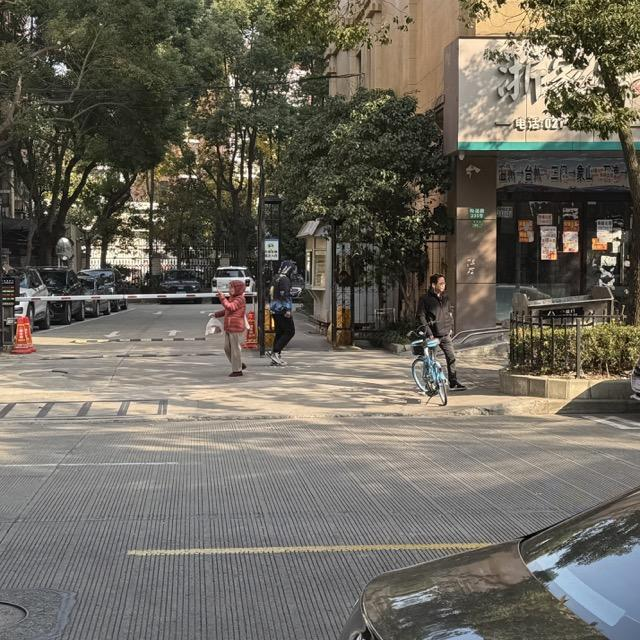curb: (500, 371, 630, 399)
